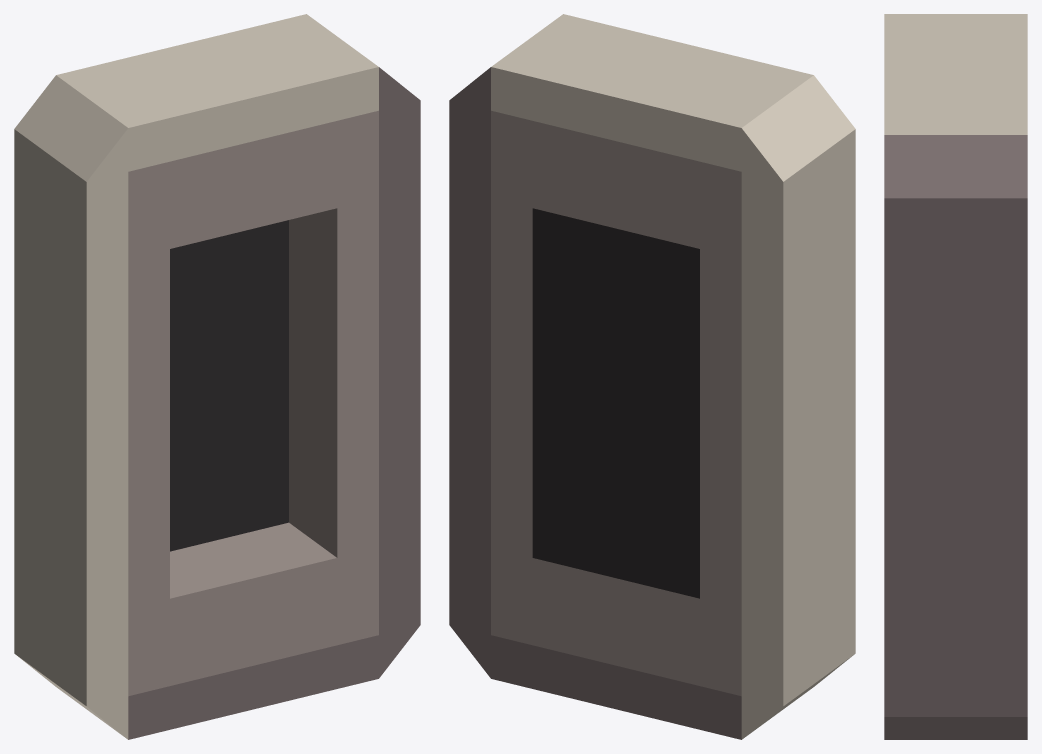
The model's file is lever-body.glb.
The picture shows the model from 3 angles, left to right: view 1: azimuth 30°, elevation 25°; view 2: azimuth 150°, elevation 25°; view 3: azimuth 270°, elevation 25°; orthographic projection.
Parts seen in each view (by area): view 1: generated(Clone); view 2: generated(Clone); view 3: generated(Clone).
Part boxes in pixels (x1=…): generated(Clone): x1=14, y1=14, x2=420, y2=739; generated(Clone): x1=449, y1=14, x2=855, y2=739; generated(Clone): x1=884, y1=14, x2=1027, y2=739.
Bounding box in the file's own units: 8 × 14 × 3.
1 material, 1 textured.
